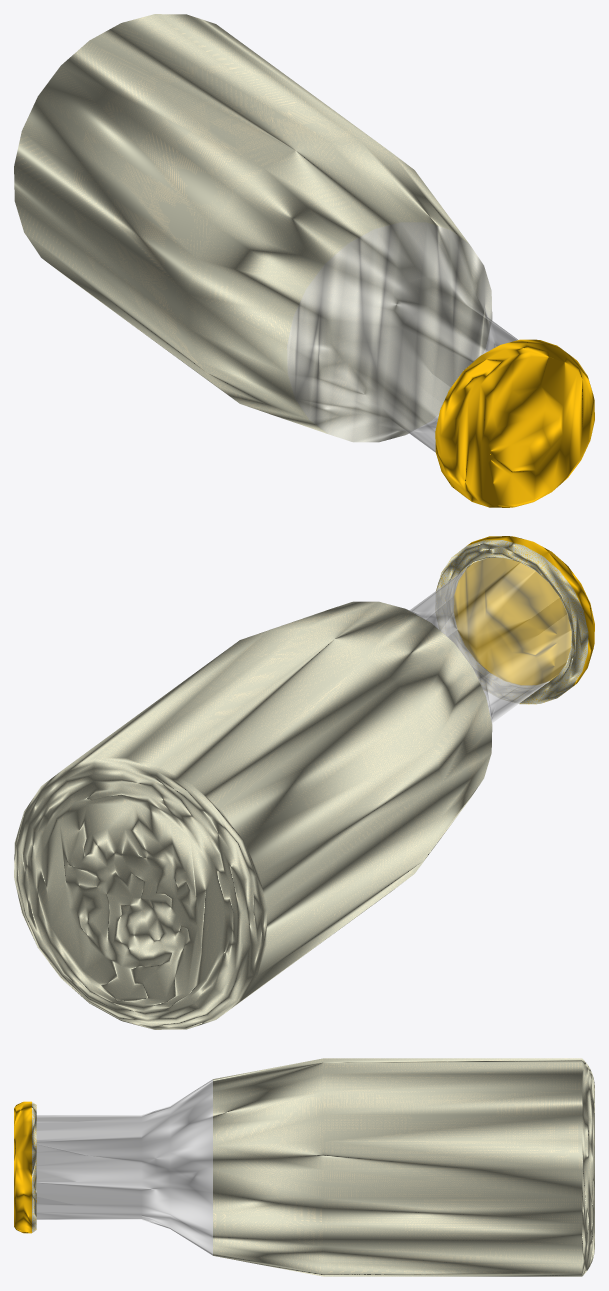
Rendered from model_align.obj.
The picture shows the model from 3 angles, top to bottom: view 1: azimuth 30°, elevation 25°; view 2: azimuth 150°, elevation 25°; view 3: azimuth 270°, elevation 25°; orthographic projection. The views are drawn at different scales.
Size of the model in its own units: 0.0938 by 0.0938 by 0.2511.
